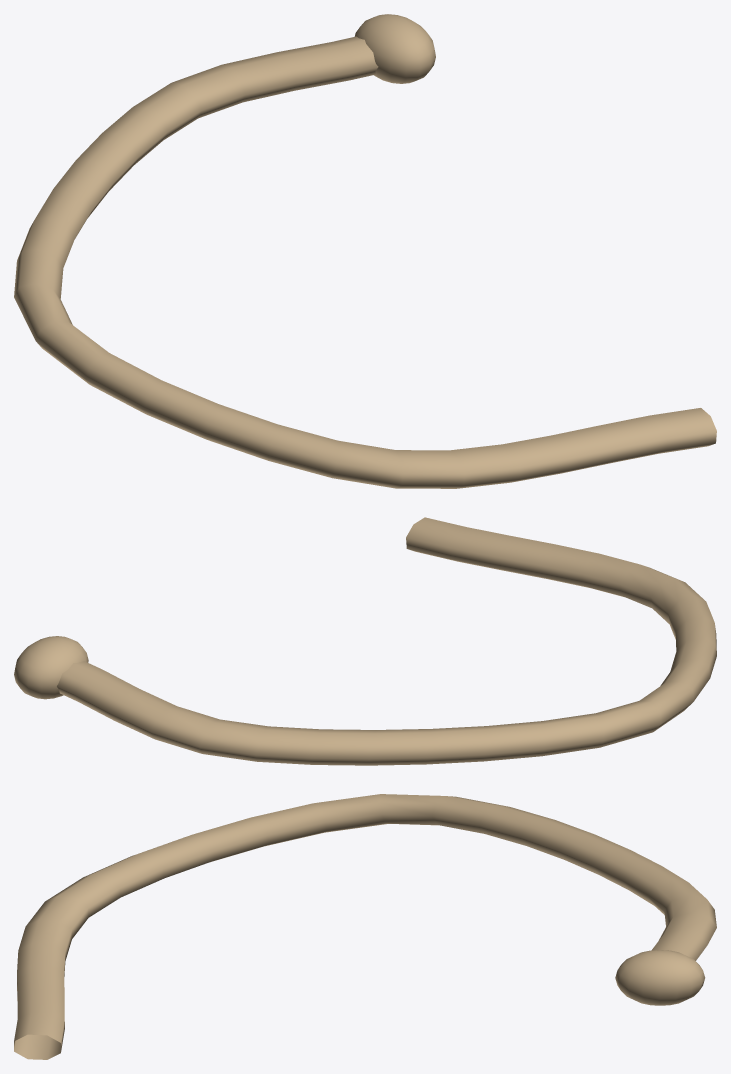
File: right_rib_2.glb
3 renders of one model, top to bottom at view 1: azimuth 30°, elevation 25°; view 2: azimuth 150°, elevation 25°; view 3: azimuth 270°, elevation 25°, orthographic. The views are drawn at different scales.
Parts seen in each view (by area): view 1: right_rib_2:costal-body, right_rib_2:head; view 2: right_rib_2:costal-body, right_rib_2:head; view 3: right_rib_2:costal-body, right_rib_2:head.
Part boxes in pixels (x1,y1,x2,y2): right_rib_2:costal-body: (14, 36, 716, 488); right_rib_2:head: (354, 14, 435, 83); right_rib_2:costal-body: (57, 517, 716, 765); right_rib_2:head: (14, 636, 88, 699); right_rib_2:costal-body: (14, 794, 716, 1059); right_rib_2:head: (615, 950, 705, 1005).
Bounding box in the file's own units: 0.6761 × 0.1728 × 0.864.
